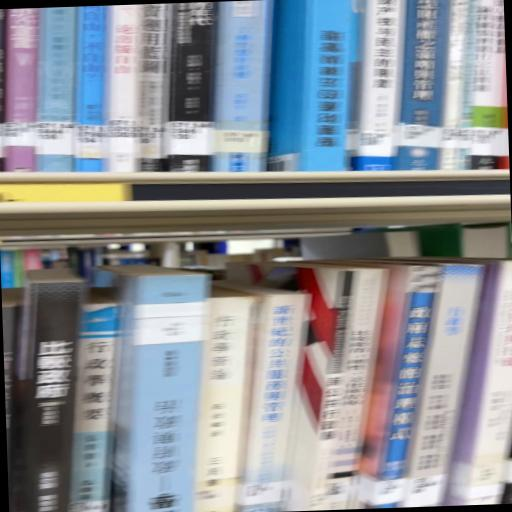reverse: (100, 265, 211, 512)
